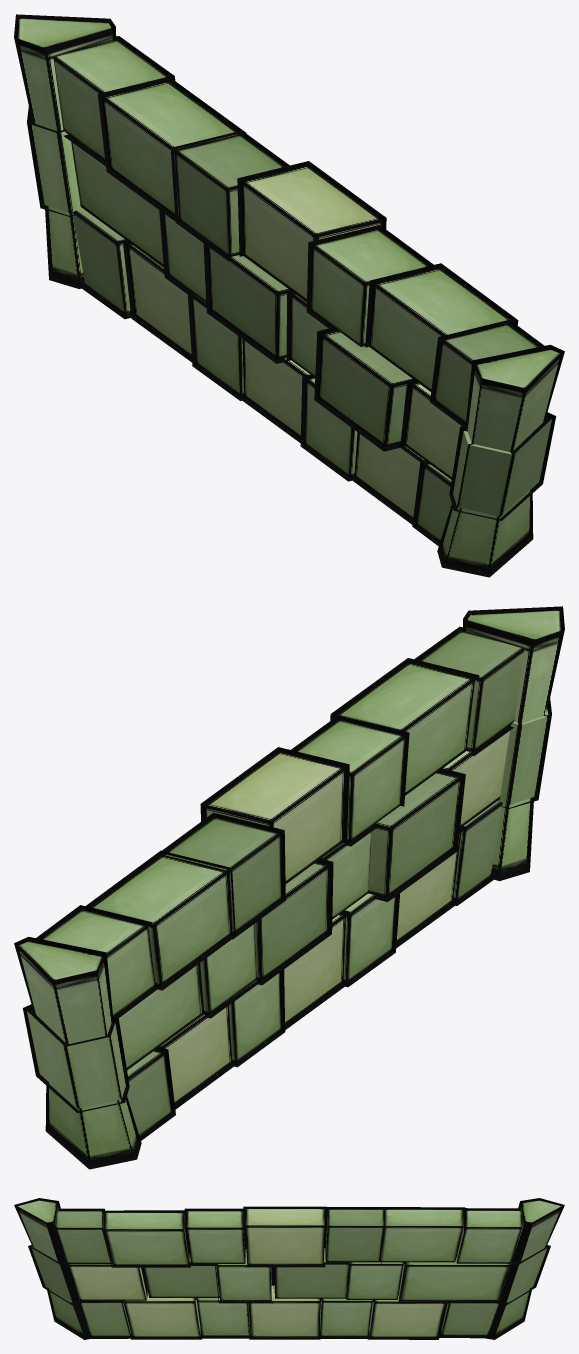
File: normal_wall_state04.FBX
3 renders of one model, top to bottom at view 1: azimuth 30°, elevation 25°; view 2: azimuth 150°, elevation 25°; view 3: azimuth 270°, elevation 25°, orthographic. The views are drawn at different scales.
Parts seen in each view (by area): view 1: Box103, Box109; view 2: Box103, Box109; view 3: Box103, Box109.
Part boxes in pixels (<box>): Box103: <box>17,18,560,572</box>; Box109: <box>14,14,564,577</box>; Box103: <box>18,610,561,1164</box>; Box109: <box>14,606,564,1169</box>; Box103: <box>16,1200,562,1337</box>; Box109: <box>14,1198,564,1339</box>.
Bounding box in the file's own units: 0.2433 × 0.5135 × 2.17.
5 materials, 4 textured.
